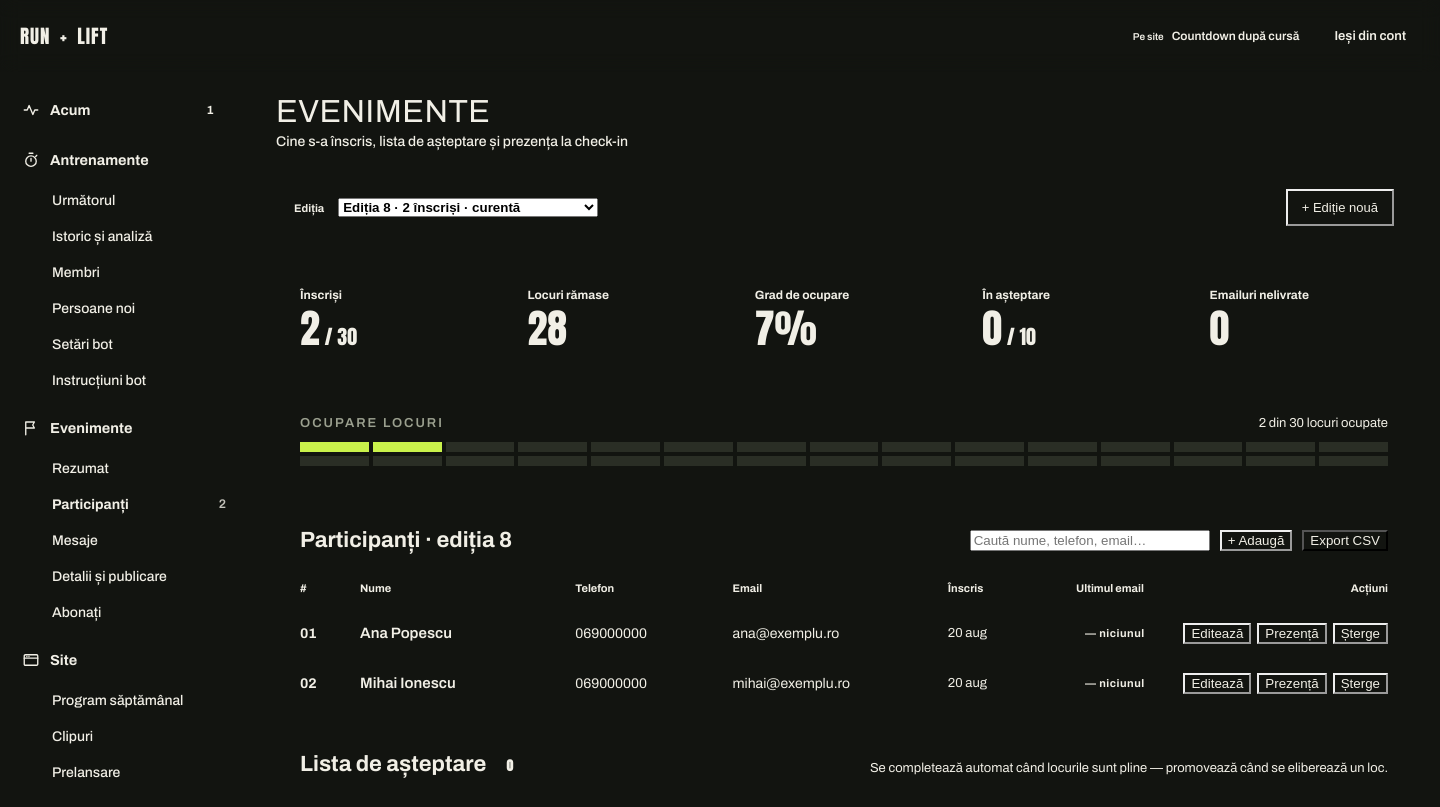
Test: AdminDashboard — undo la ștergere › undo refuzat pentru că locul s-a ocupat spune de ce
The width and height of the screenshot is (1440, 807).
Expected: the text "Ana Popescu" is shown, [360, 625, 452, 641]
Click the button "Șterge" in the row of "ana@exemplu.ro" at (1360, 633), box [1333, 622, 1388, 644]
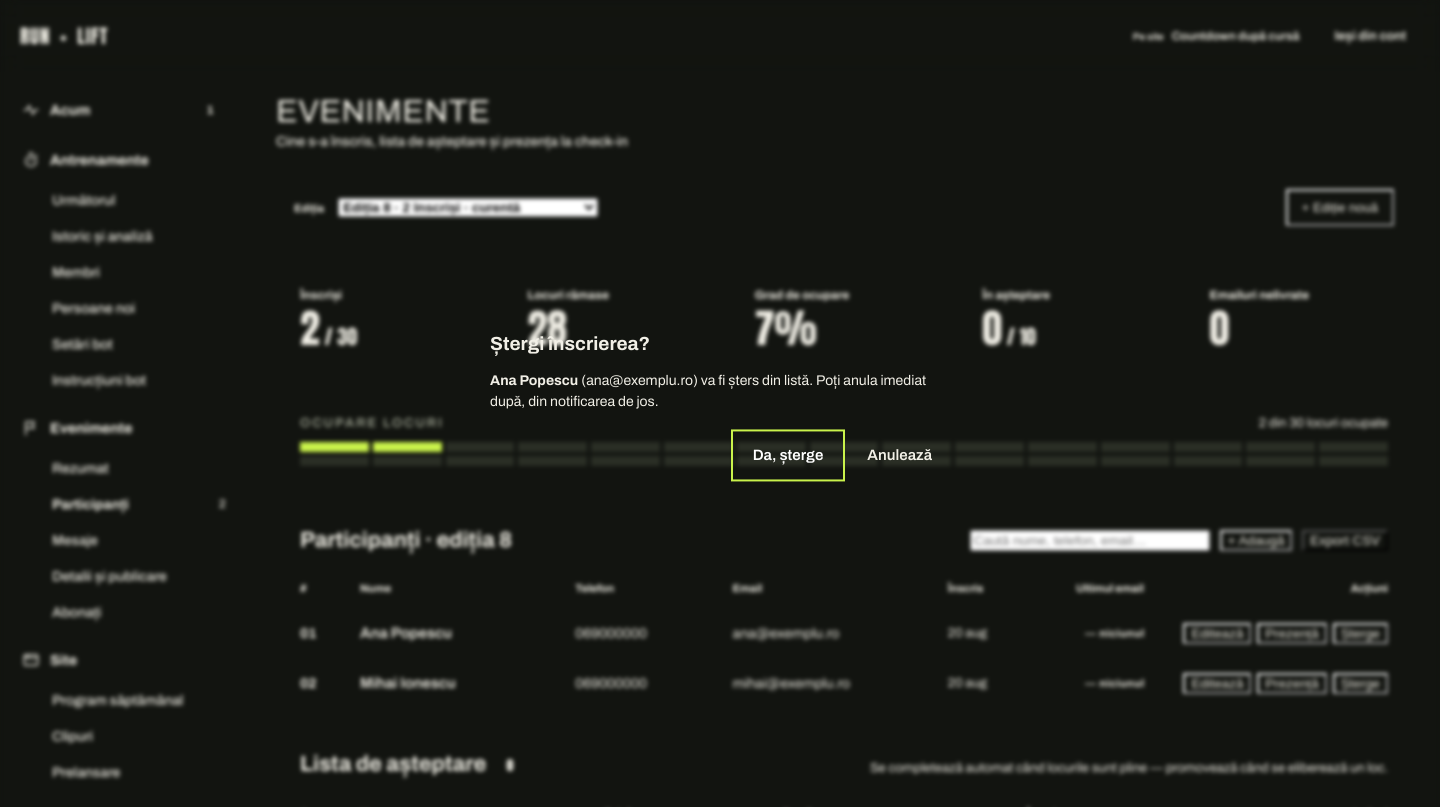
Click the button "Da, șterge" at (788, 456), box [735, 434, 841, 478]
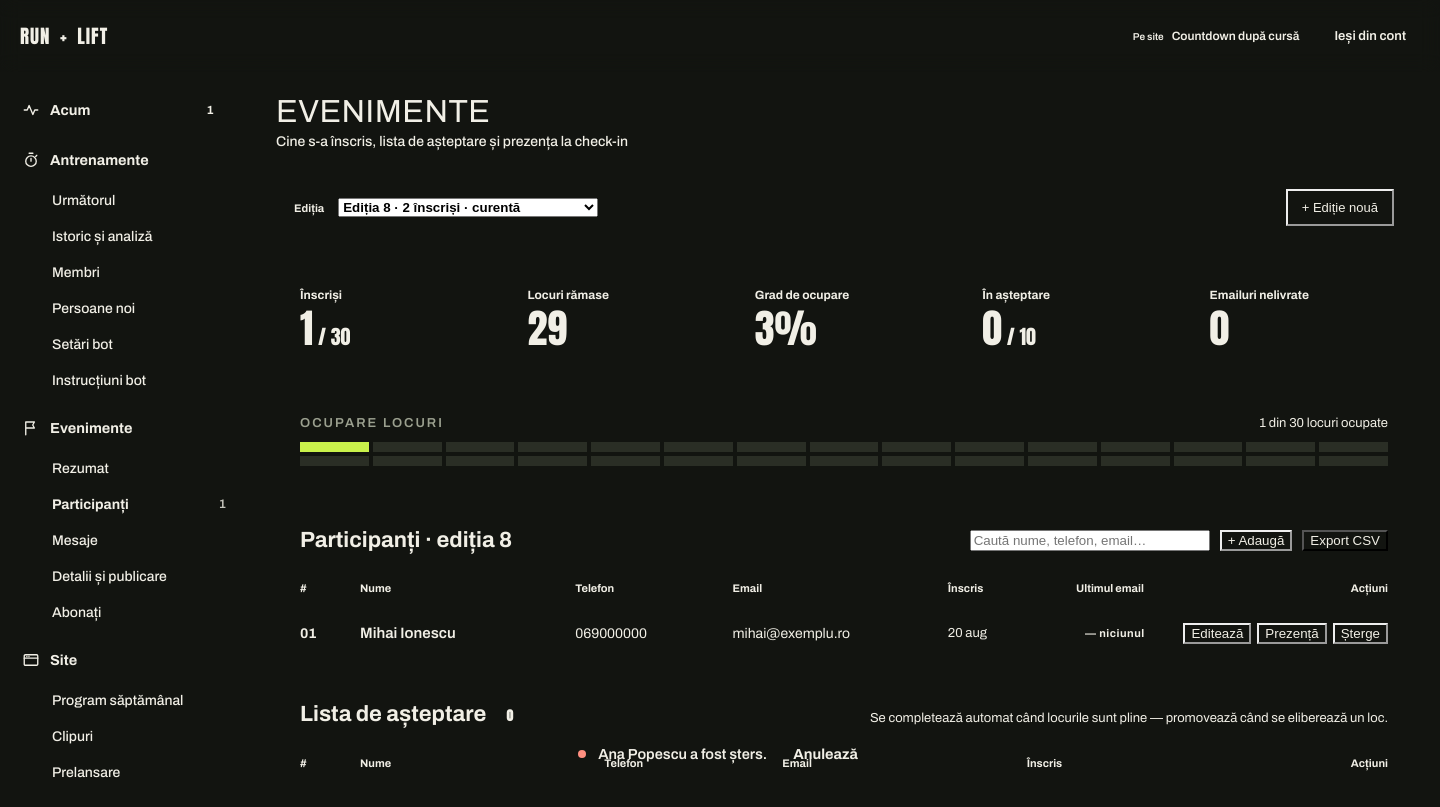
Click the button "Anulează" at (826, 754), box [779, 734, 872, 774]
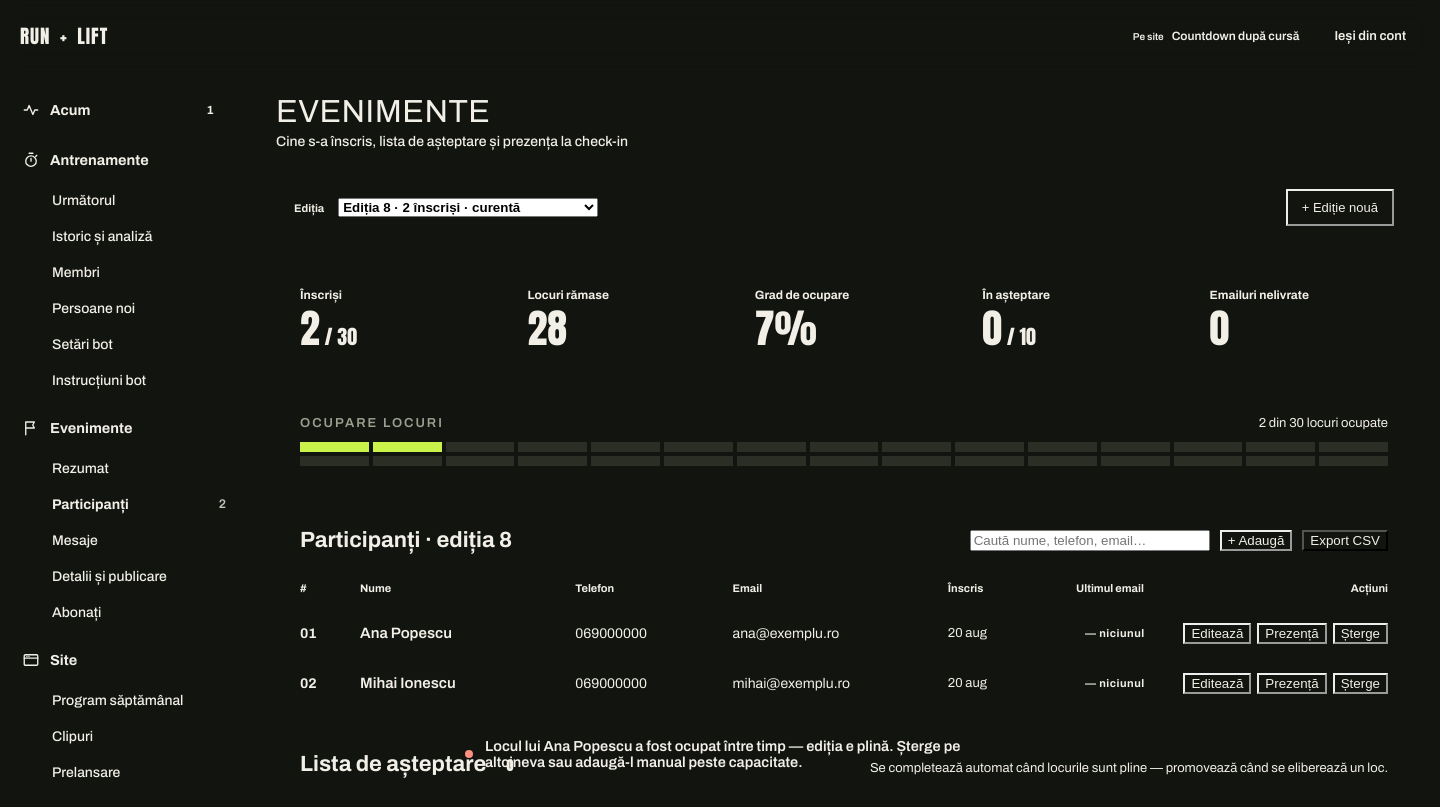
Expected: the text "ediția e plină" is shown, [485, 738, 960, 770]
